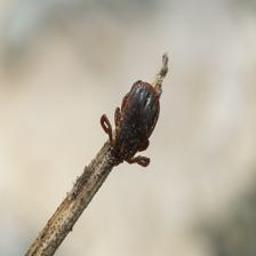Rhipicephalus sanguineus: (99, 80, 160, 168)
